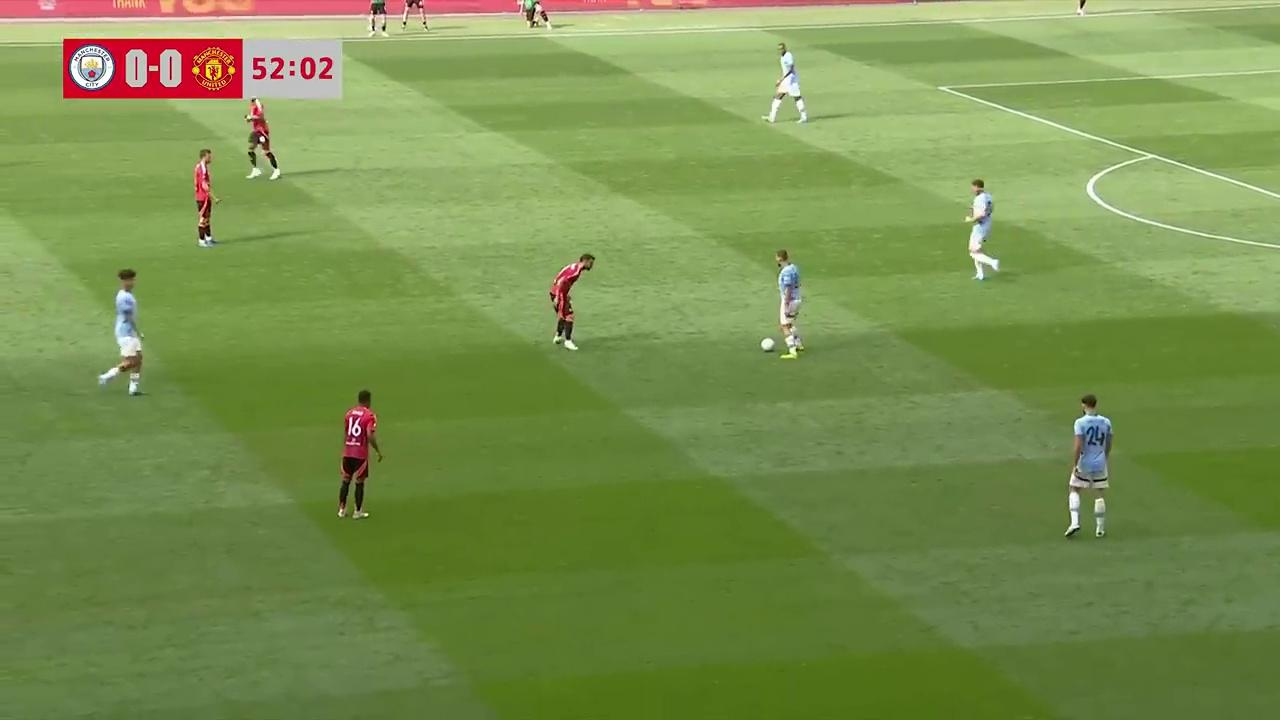ball: (759, 334, 775, 353)
player: (1064, 393, 1114, 541), (337, 389, 383, 522), (98, 269, 145, 397), (548, 253, 595, 350), (964, 178, 1000, 282), (763, 43, 808, 124), (774, 249, 804, 357), (243, 99, 280, 180), (194, 148, 219, 247), (1075, 0, 1091, 18)
